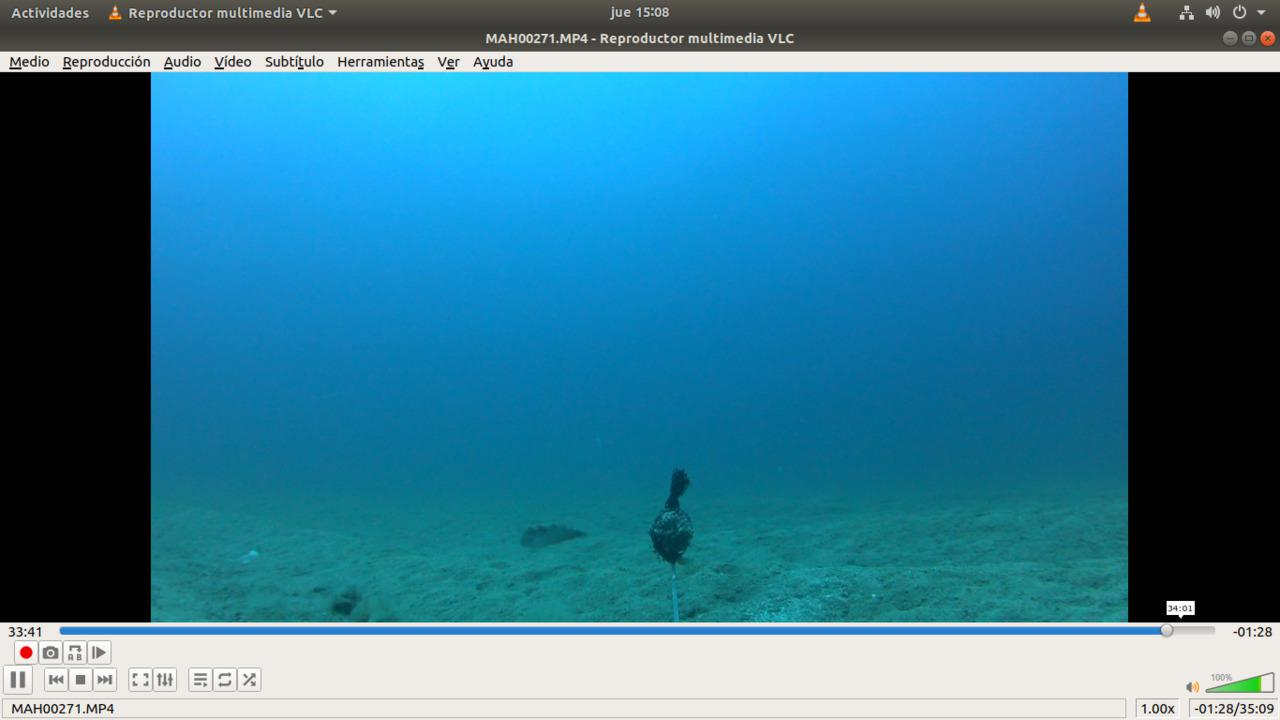raor: (512, 517, 591, 553)
